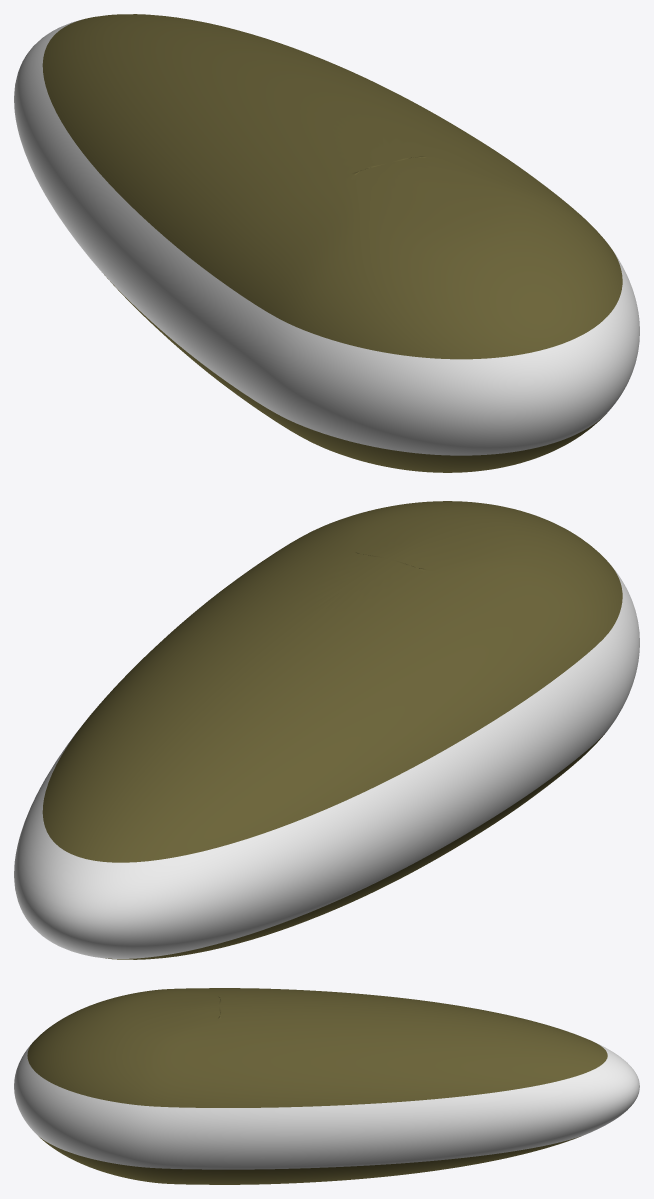
The model's file is sunflowerSeed.fbx.
3 views of the same model, one above another, from view 1: azimuth 30°, elevation 25°; view 2: azimuth 150°, elevation 25°; view 3: azimuth 270°, elevation 25° (orthographic). The views are drawn at different scales.
Parts seen in each view (by area): view 1: Sphere; view 2: Sphere; view 3: Sphere.
Boxes of the visible parts, x1,y1,x2,y2 form: Sphere: [14, 14, 639, 472]; Sphere: [14, 501, 639, 959]; Sphere: [14, 988, 639, 1184].
Size of the model in its own units: 197 by 461 by 131.
